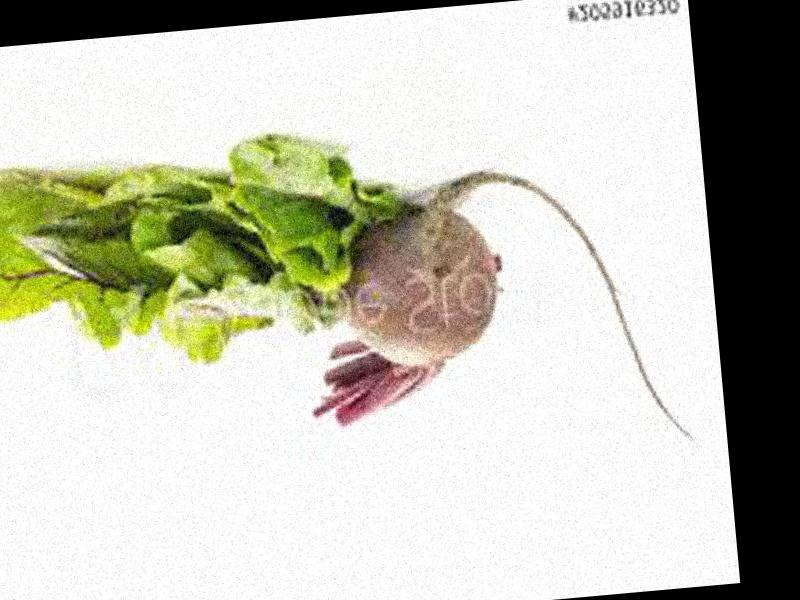Beet: (287, 153, 702, 479)
